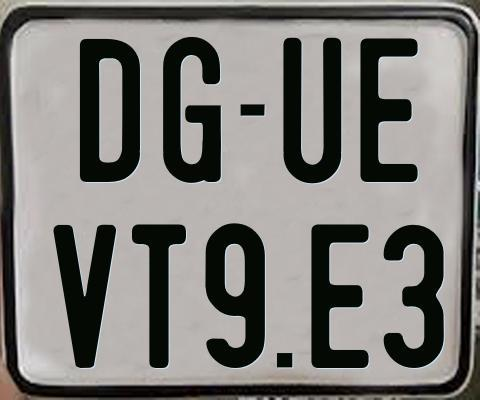3: (382, 224, 444, 367)
9: (205, 222, 266, 372)
D: (78, 38, 142, 187)
E: (357, 35, 420, 184), (310, 223, 369, 369)
G: (163, 34, 224, 185)
T: (132, 224, 191, 368)
U: (280, 37, 344, 182)
V: (50, 225, 119, 368)
